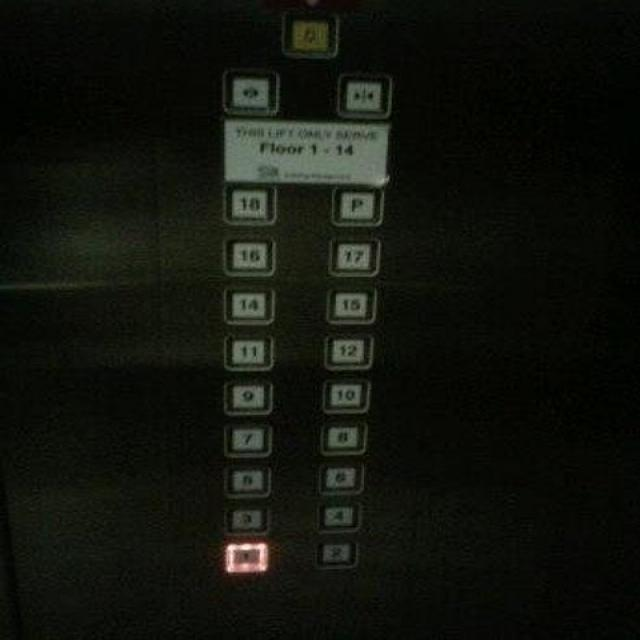1: (222, 542, 266, 571)
10: (320, 378, 369, 412)
11: (222, 334, 274, 370)
12: (321, 333, 372, 371)
14: (220, 286, 275, 325)
15: (323, 286, 377, 323)
16: (221, 237, 275, 275)
17: (327, 236, 380, 277)
18: (220, 181, 275, 226)
2: (314, 539, 358, 568)
3: (222, 505, 270, 537)
4: (313, 500, 363, 532)
5: (224, 466, 271, 499)
6: (316, 461, 363, 495)
7: (223, 422, 269, 457)
8: (319, 420, 364, 455)
9: (221, 378, 272, 416)
P: (329, 184, 382, 226)
alarm: (279, 11, 337, 56)
close: (334, 73, 390, 119)
open: (221, 69, 279, 116)
